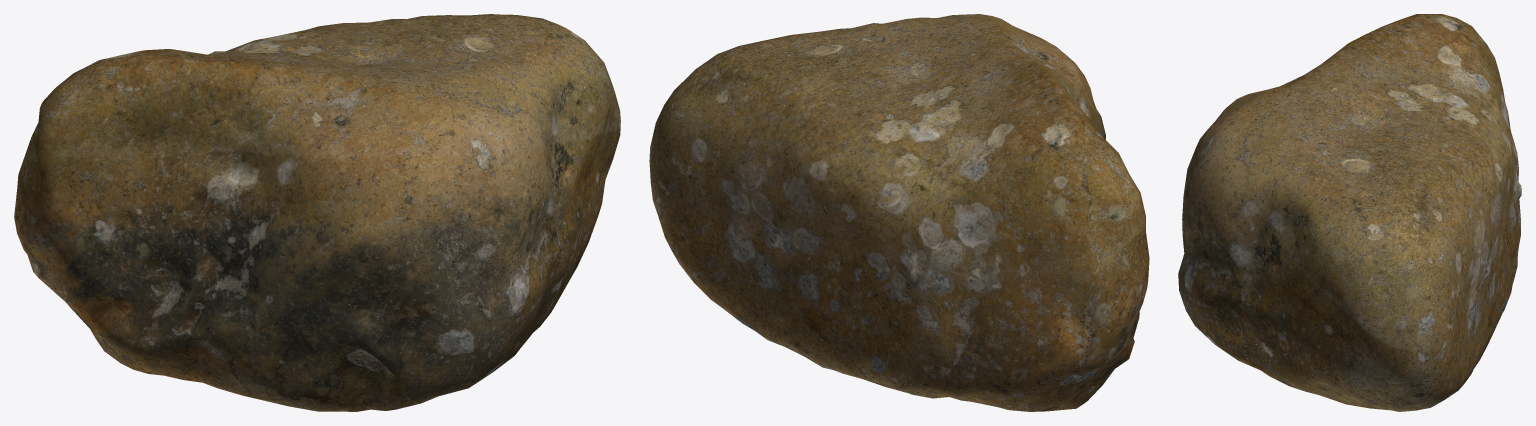
The model's file is ufojfdyga_tier_2.gltf.
3 renders of one model, left to right at view 1: azimuth 30°, elevation 25°; view 2: azimuth 150°, elevation 25°; view 3: azimuth 270°, elevation 25°, orthographic. The views are drawn at different scales.
Visible parts, largest first — view 1: ufojfdyga_LOD0_TIER2_000; view 2: ufojfdyga_LOD0_TIER2_000; view 3: ufojfdyga_LOD0_TIER2_000.
Boxes of the visible parts, x1,y1,x2,y2 form: ufojfdyga_LOD0_TIER2_000: (14,14,620,411); ufojfdyga_LOD0_TIER2_000: (649,14,1149,411); ufojfdyga_LOD0_TIER2_000: (1178,14,1521,411).
Size of the model in its own units: 0.3234 by 0.1832 by 0.2089.
1 material, 1 textured.
